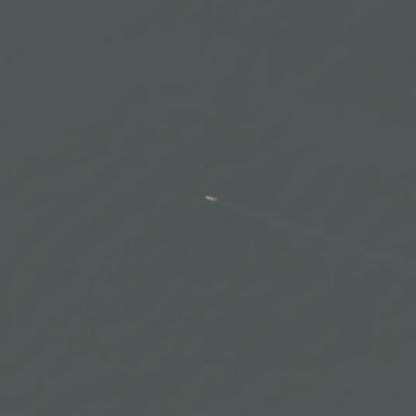ship: (209, 26, 212, 37)
